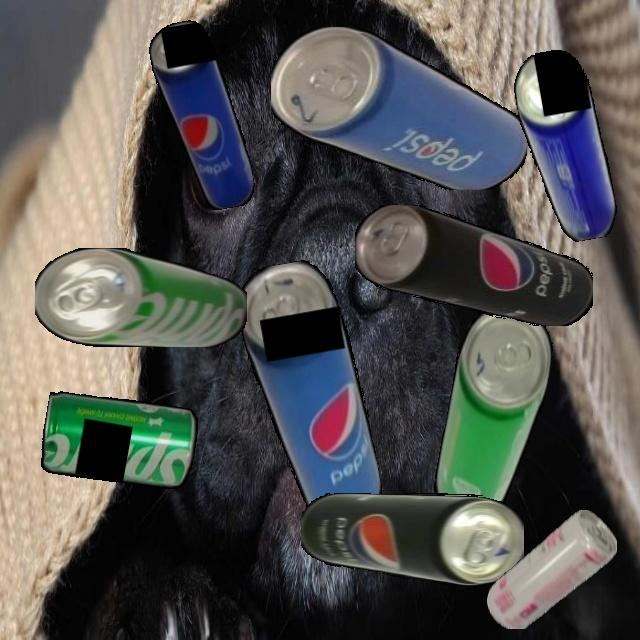debris: (232, 254, 387, 538), (271, 26, 527, 190), (429, 300, 559, 532), (355, 204, 593, 326), (509, 45, 621, 247), (146, 15, 257, 216), (35, 247, 247, 347), (300, 493, 524, 586), (37, 385, 201, 497), (486, 509, 617, 629)
